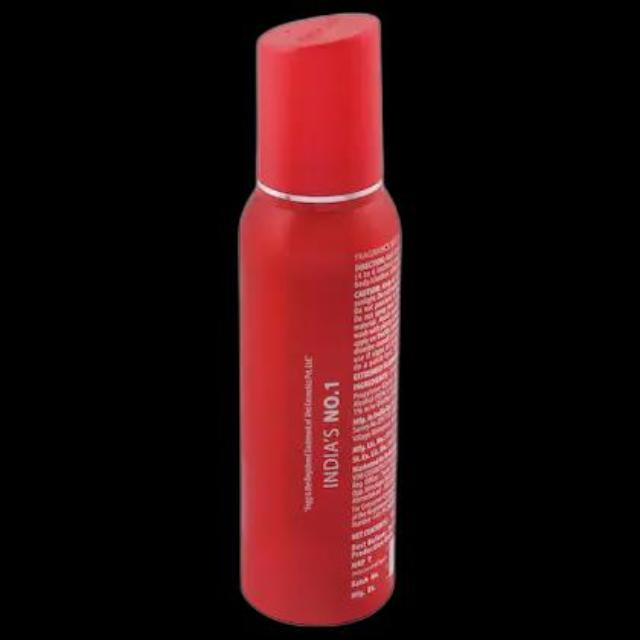Fogg Napoleon Fragrance Body Spray 150 ml: (225, 6, 405, 630)
